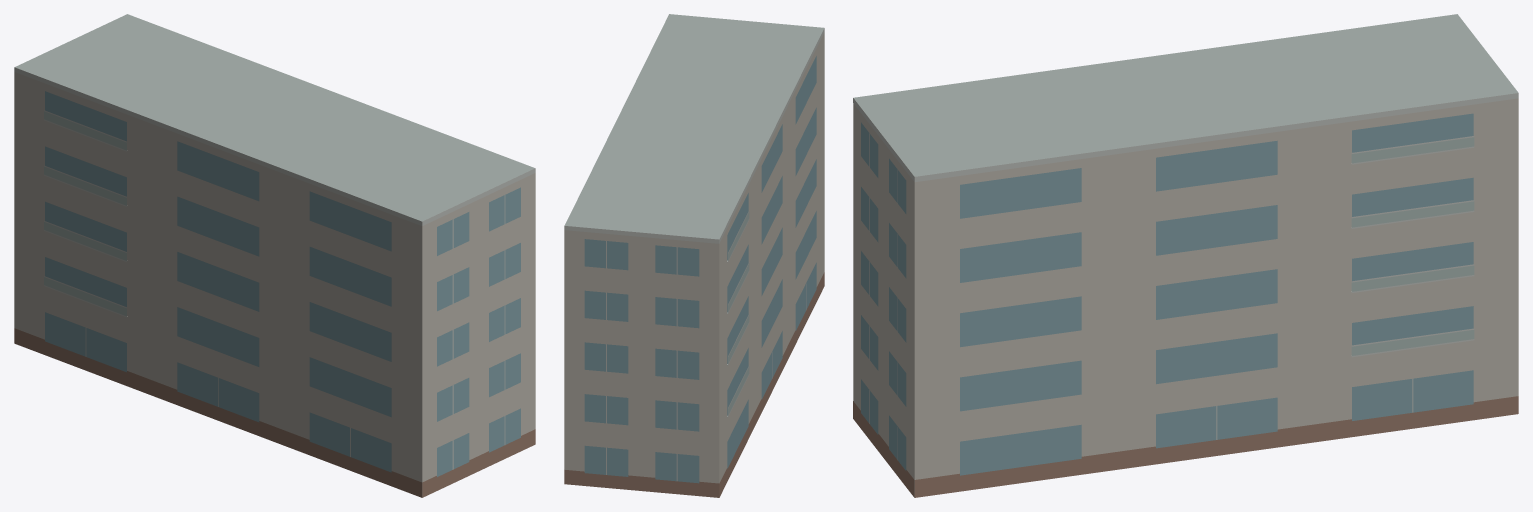
The model's file is survey-upis-32563623.glb.
The picture shows the model from 3 angles, left to right: view 1: azimuth 30°, elevation 25°; view 2: azimuth 150°, elevation 25°; view 3: azimuth 270°, elevation 25°; orthographic projection. The views are drawn at different scales.
Visible parts, largest first — view 1: survey-upis-32563623.tmp; view 2: survey-upis-32563623.tmp; view 3: survey-upis-32563623.tmp.
Boxes of the visible parts, <box> form: survey-upis-32563623.tmp: <box>14,14,535,497</box>; survey-upis-32563623.tmp: <box>564,14,824,497</box>; survey-upis-32563623.tmp: <box>853,14,1518,497</box>.
Bounding box in the file's own units: 15.9 × 14.6 × 27.45.
